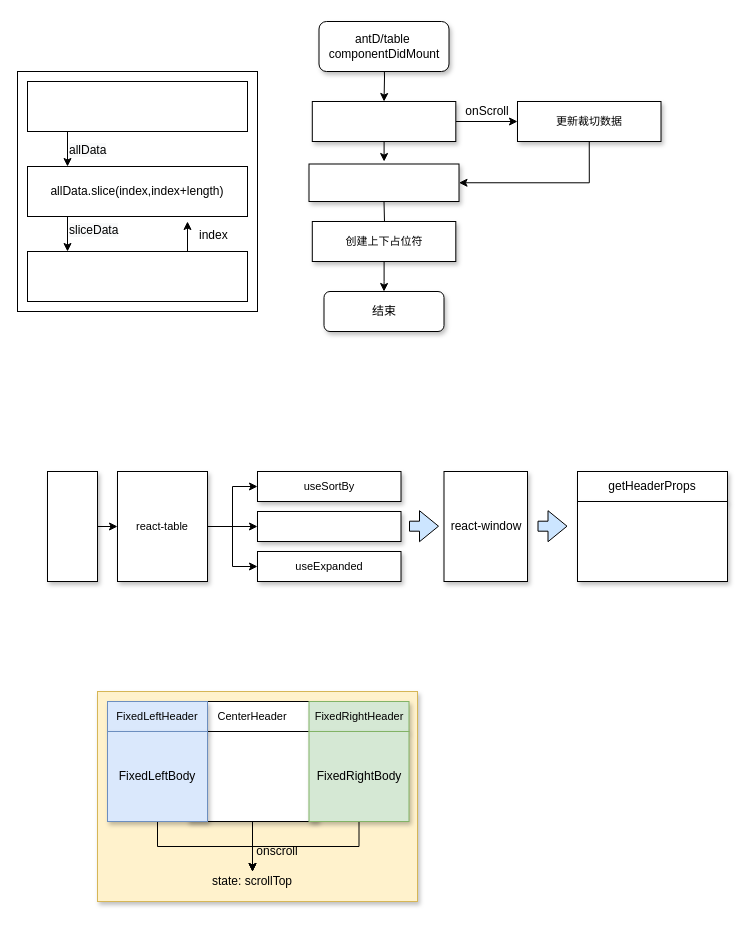
This 751x926 diagram has some shape labels left out. Each missing label, with the centre of its shape:
"CenterBody" belongs at (x=253, y=777).
"Customed Feature & Style" belongs at (x=137, y=106).
"getBodyProps" belongs at (x=653, y=542).
"props 转化" belongs at (x=73, y=527).
"rc-table (fork)" belongs at (x=137, y=276).
"useSelection" belongs at (x=329, y=527).
"绑定新的scroll事件处理" belongs at (x=384, y=122).
"表格功能兼容" belongs at (x=384, y=183).
